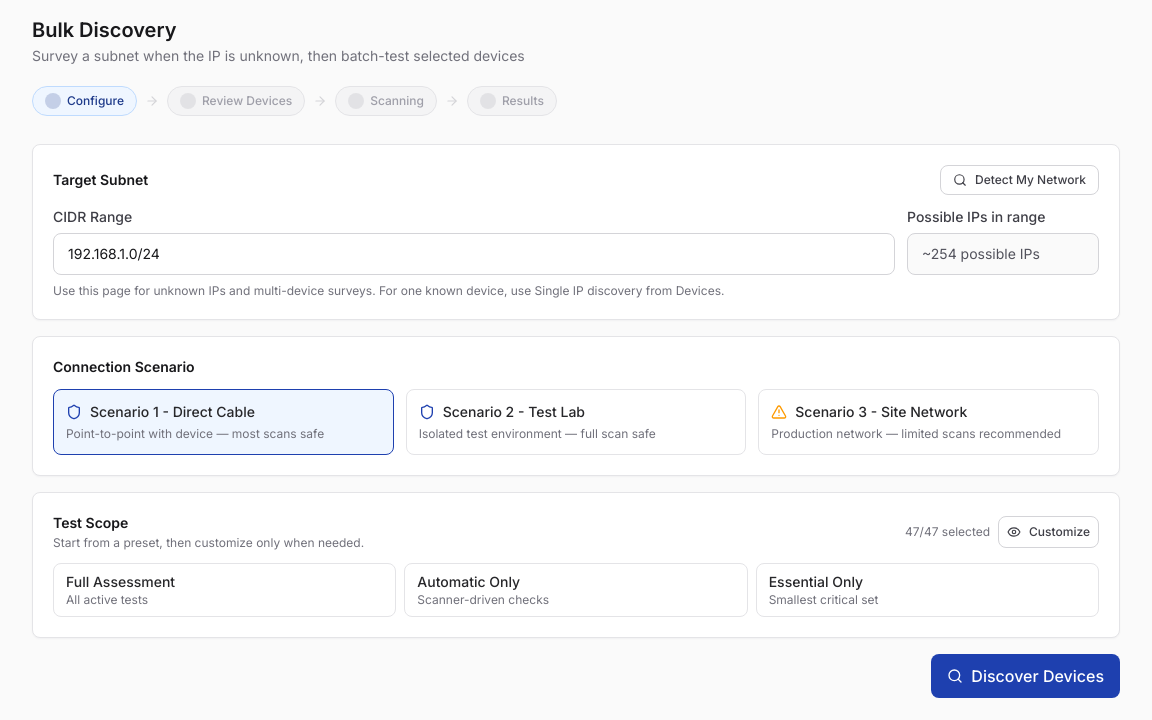
Test: NetworkScanPage › blocks invalid or over-wide CIDR ranges before discovery
Type "999.168.1.0/24" into the field with placeholder "192.168.1.0/24" at {"x": 474, "y": 254}, box 53,233 -> 895,275
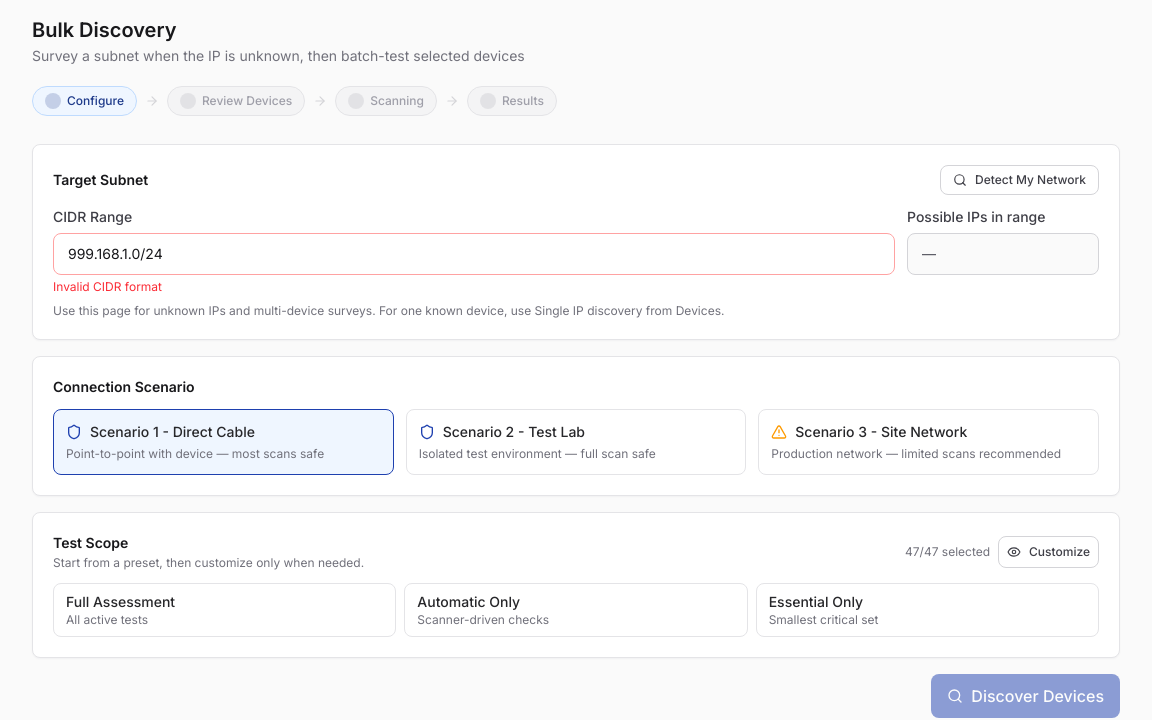
Expected: the text "Invalid CIDR format" is shown, 53,279 -> 162,294
Expected: the button "Discover Devices" is disabled, 931,674 -> 1120,718
Replace the text in the field with placeholder "192.168.1.0/24" with "10.0.0.0/8" at {"x": 474, "y": 254}, box 53,233 -> 895,275
(page scrolled)
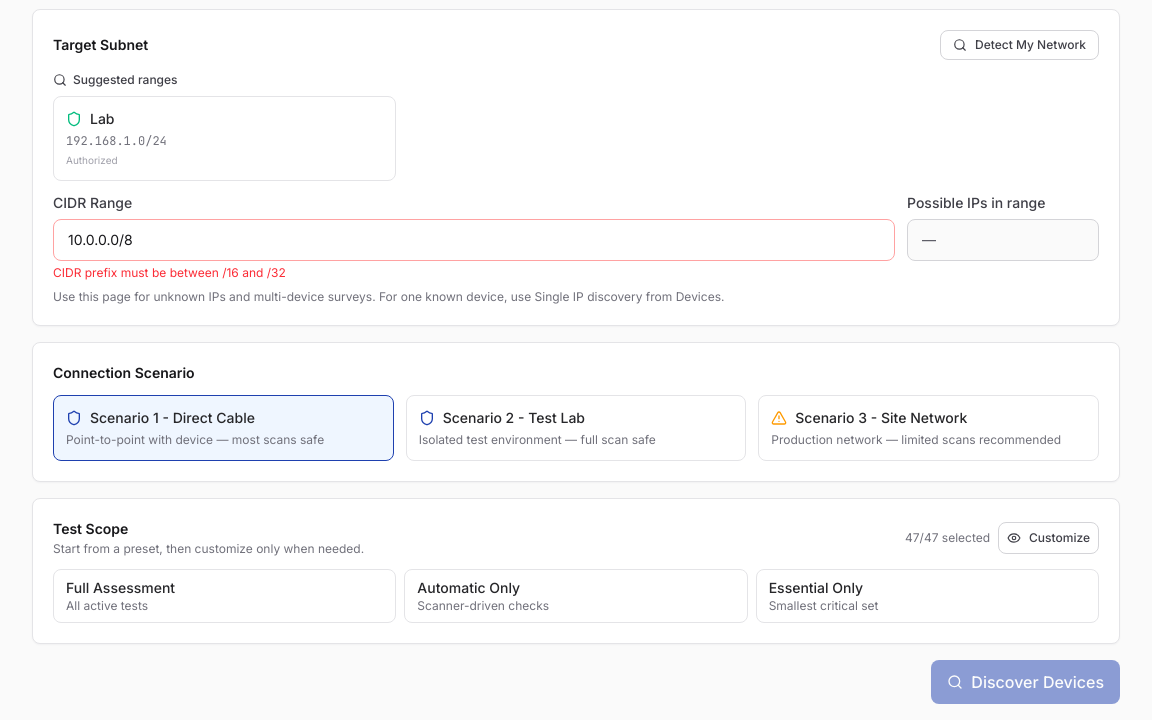
Expected: the button "Discover Devices" is disabled, 931,660 -> 1120,704
Expected: the text "CIDR prefix must be between /16 and /32" is shown, 53,265 -> 286,280
